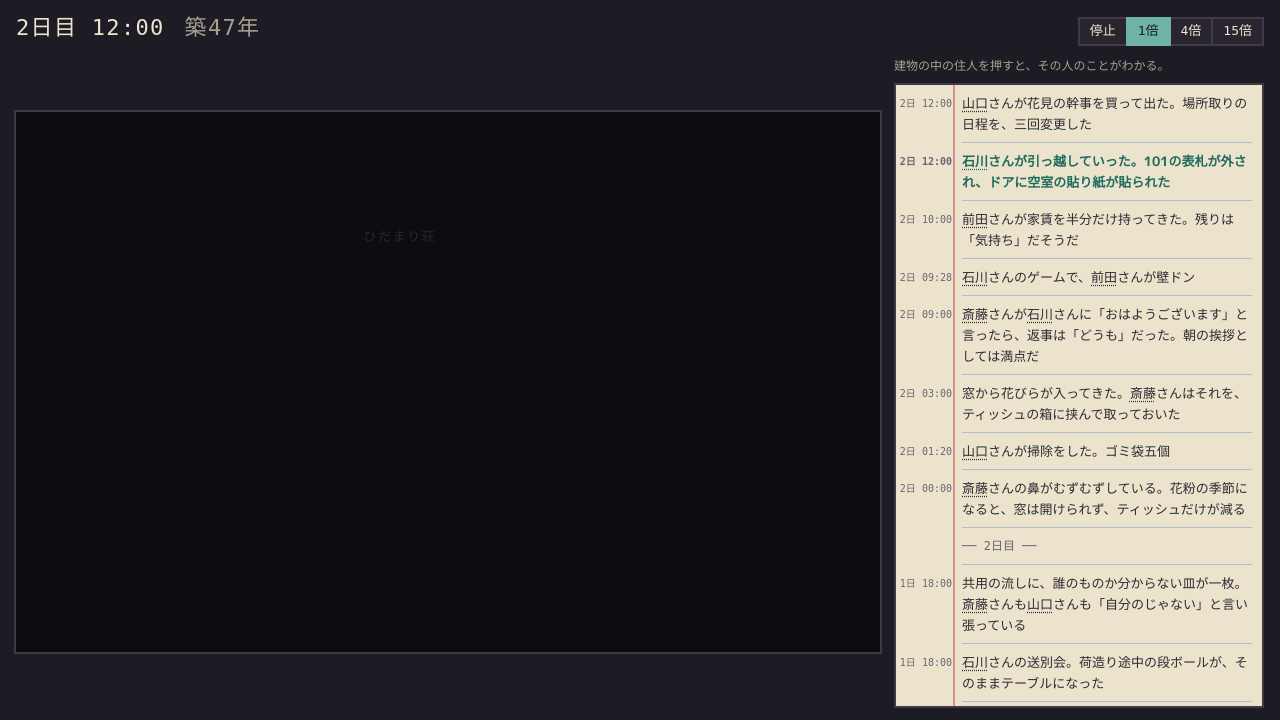
Test case: 追加: 出ていった住人 › 日誌の名前を押すと、プロフィールと最後の出来事が出る（ボタンではない）
This screenshot has width=1280, height=720.
Step 1. Click the link "石川" next to "さんが引っ越していった。101の表札が外され、ドアに空室の貼り紙が貼られた" → x=975, y=161, box [962, 152, 988, 170]
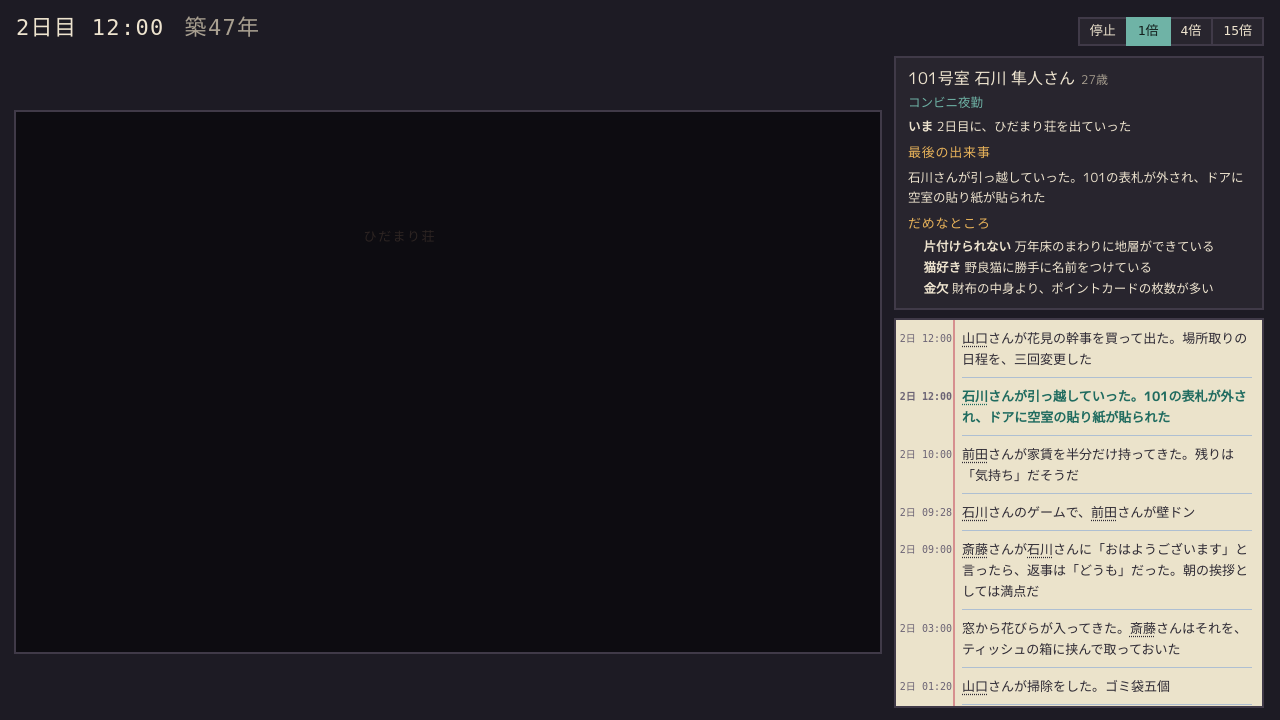
Check: the element named "出ていった住人のプロフィール" shows "ひだまり荘を出ていった", box [944, 118, 1131, 135]
Check: the element named "出ていった住人のプロフィール" shows "最後の出来事", box [908, 145, 991, 160]
